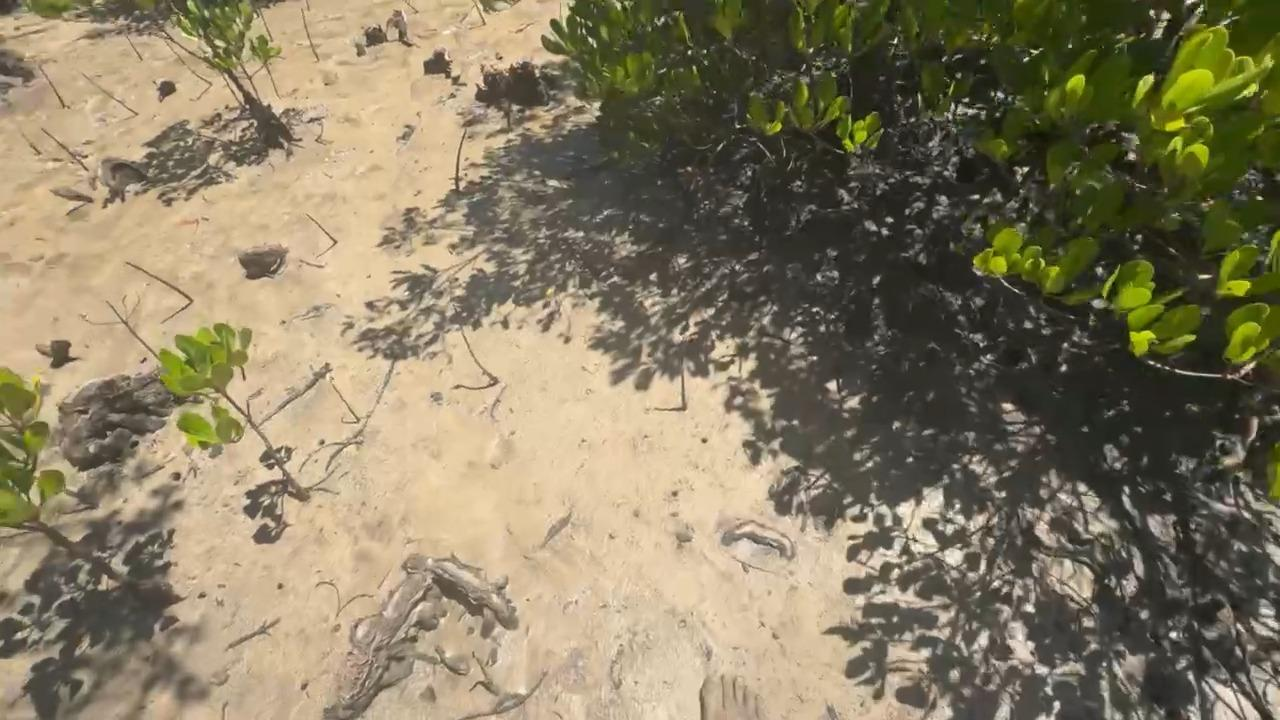Tree: (158, 322, 308, 500), (453, 305, 499, 384), (104, 298, 160, 359), (125, 261, 191, 302), (82, 73, 139, 116), (165, 41, 214, 86), (41, 127, 89, 172), (34, 59, 65, 108), (332, 381, 361, 423), (302, 9, 321, 62), (305, 213, 338, 243), (455, 128, 469, 196), (678, 336, 688, 409), (22, 130, 44, 156), (258, 6, 273, 42), (126, 35, 143, 61), (472, 0, 486, 25), (403, 0, 419, 14), (506, 100, 512, 131), (307, 0, 311, 10)
